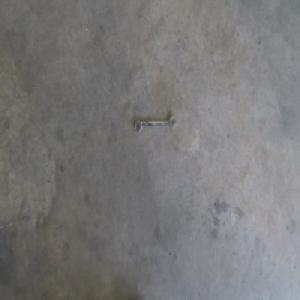Wrench: (133, 115, 176, 134)
